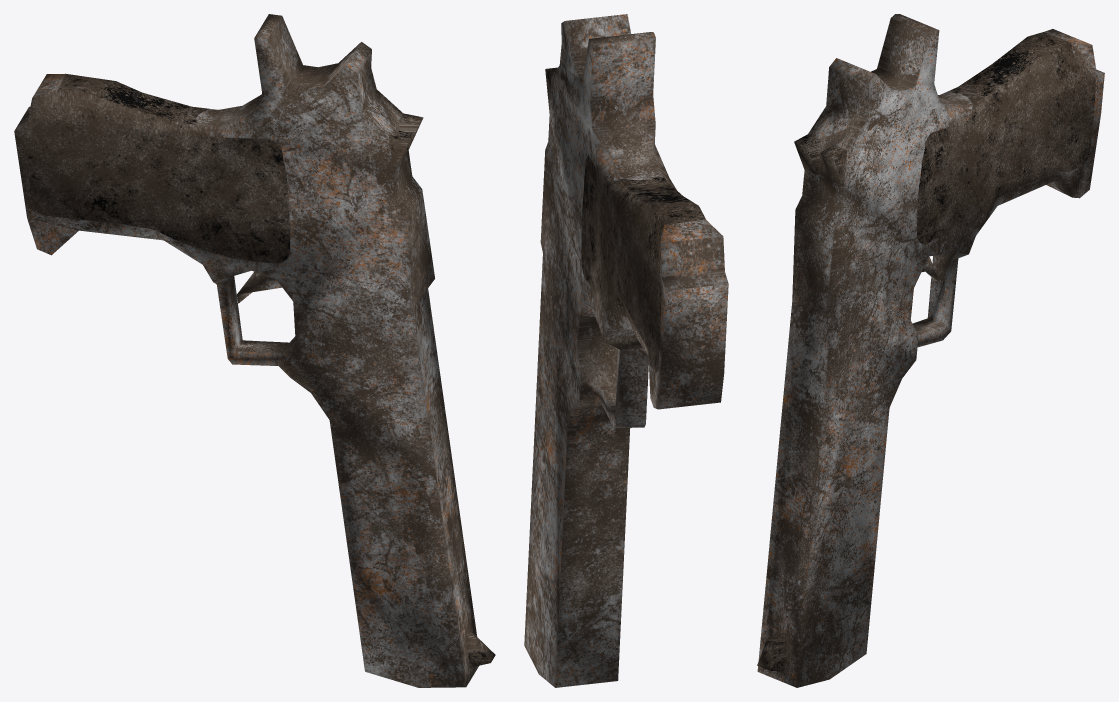
Rendered from Anim_idle_pistola_objetos.0032.obj.
The picture shows the model from 3 angles, left to right: view 1: azimuth 30°, elevation 25°; view 2: azimuth 150°, elevation 25°; view 3: azimuth 270°, elevation 25°; orthographic projection. The views are drawn at different scales.
Parts seen in each view (by area): view 1: Pistola1; view 2: Pistola1; view 3: Pistola1.
Boxes of the visible parts, x1,y1,x2,y2 form: Pistola1: (14, 14, 495, 687); Pistola1: (524, 14, 728, 687); Pistola1: (757, 14, 1104, 687).
Bounding box in the file's own units: 0.8962 × 1.67 × 0.8748.
